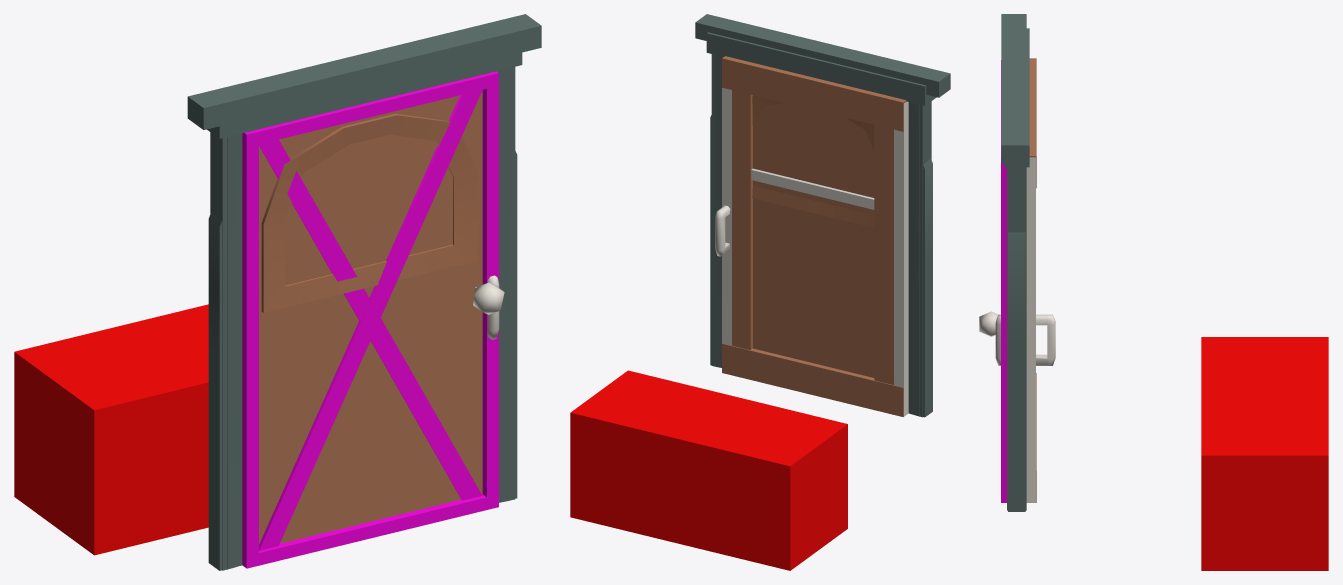
Rendered from Door_Prefab.fbx.
3 views of the same model, side by side, from view 1: azimuth 30°, elevation 25°; view 2: azimuth 150°, elevation 25°; view 3: azimuth 270°, elevation 25° (orthographic). The views are drawn at different scales.
Parts seen in each view (by area): view 1: BarnDoor, Entry_Exit_Zone, BarnDoorFrame, ArchDoor, Door_Frame, ArchDoorFrame; view 2: Door, Entry_Exit_Zone, BarnDoorFrame, GlassDoor, Door_Frame, ArchDoorFrame, ArchDoor; view 3: Entry_Exit_Zone, ArchDoorFrame, GlassDoor, BarnDoorFrame, Door_Frame, BarnDoor, Door.
Boxes of the visible parts, box(x1,y1,x2,y2) form: BarnDoor: box(242, 71, 498, 568); Entry_Exit_Zone: box(14, 304, 208, 555); BarnDoorFrame: box(187, 14, 541, 569); ArchDoor: box(261, 113, 504, 314); Door_Frame: box(207, 52, 522, 570); ArchDoorFrame: box(208, 151, 517, 570); Door: box(722, 56, 906, 416); Entry_Exit_Zone: box(570, 370, 847, 570); BarnDoorFrame: box(695, 14, 950, 416); GlassDoor: box(715, 87, 908, 416); Door_Frame: box(706, 32, 936, 417); ArchDoorFrame: box(710, 115, 932, 417); ArchDoor: box(752, 95, 874, 227); Entry_Exit_Zone: box(1201, 337, 1328, 570); ArchDoorFrame: box(1008, 232, 1025, 511); GlassDoor: box(995, 157, 1055, 502); BarnDoorFrame: box(1001, 14, 1026, 162); Door_Frame: box(1004, 28, 1029, 510); BarnDoor: box(1001, 60, 1006, 502); Door: box(1029, 58, 1036, 502).
Size of the model in its own units: 2.44 by 3.74 by 2.74.
